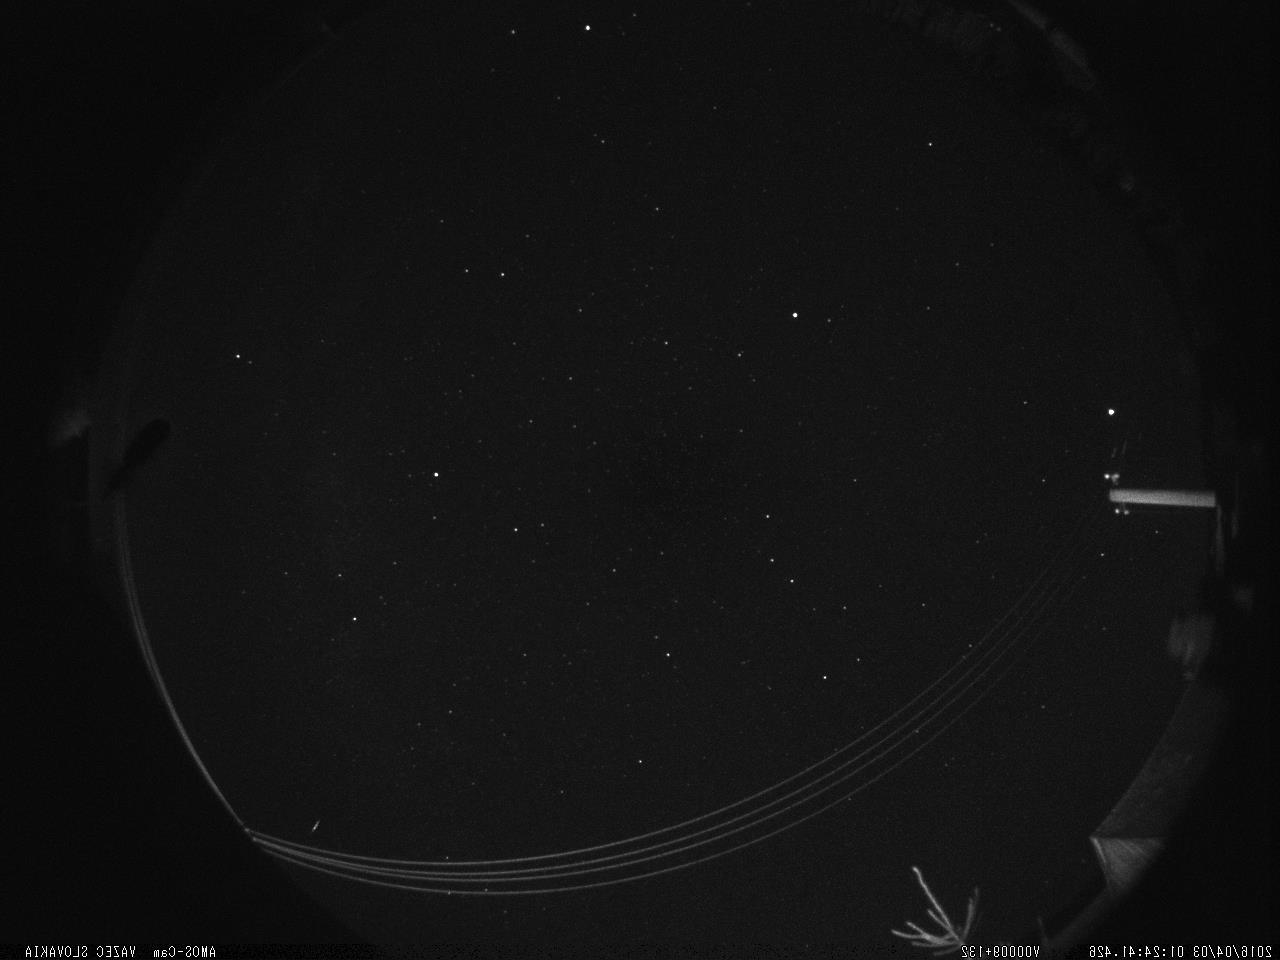meteor: (307, 813, 325, 836)
